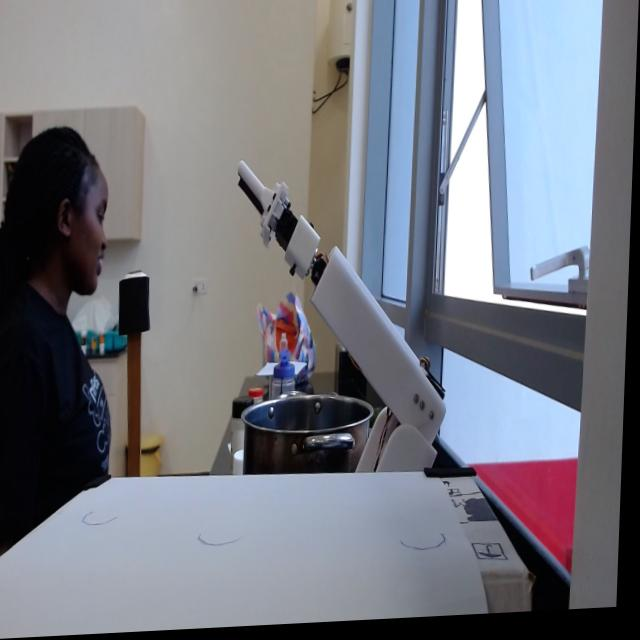cooking_pot: (244, 387, 376, 481)
